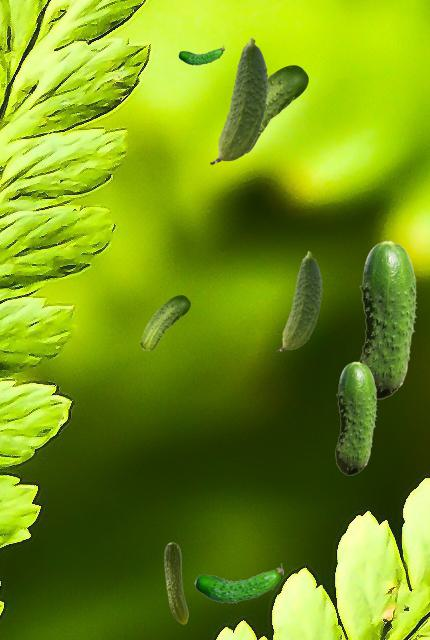cucumber: (359, 240, 416, 398), (210, 37, 267, 163), (248, 65, 307, 152), (335, 361, 376, 474), (276, 251, 321, 351), (194, 563, 282, 602), (140, 295, 189, 349), (164, 542, 187, 623), (178, 45, 223, 64)
